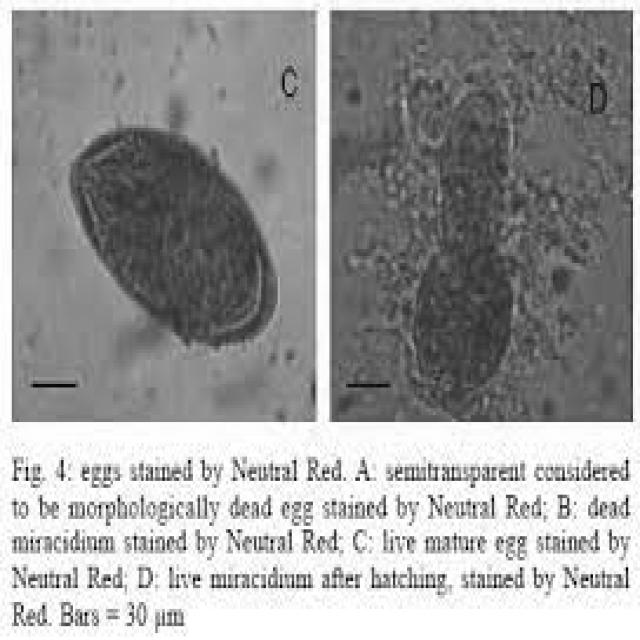Schistosoma: (56, 119, 273, 358)
